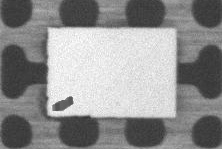DIE_INK: (74, 62, 115, 77)
